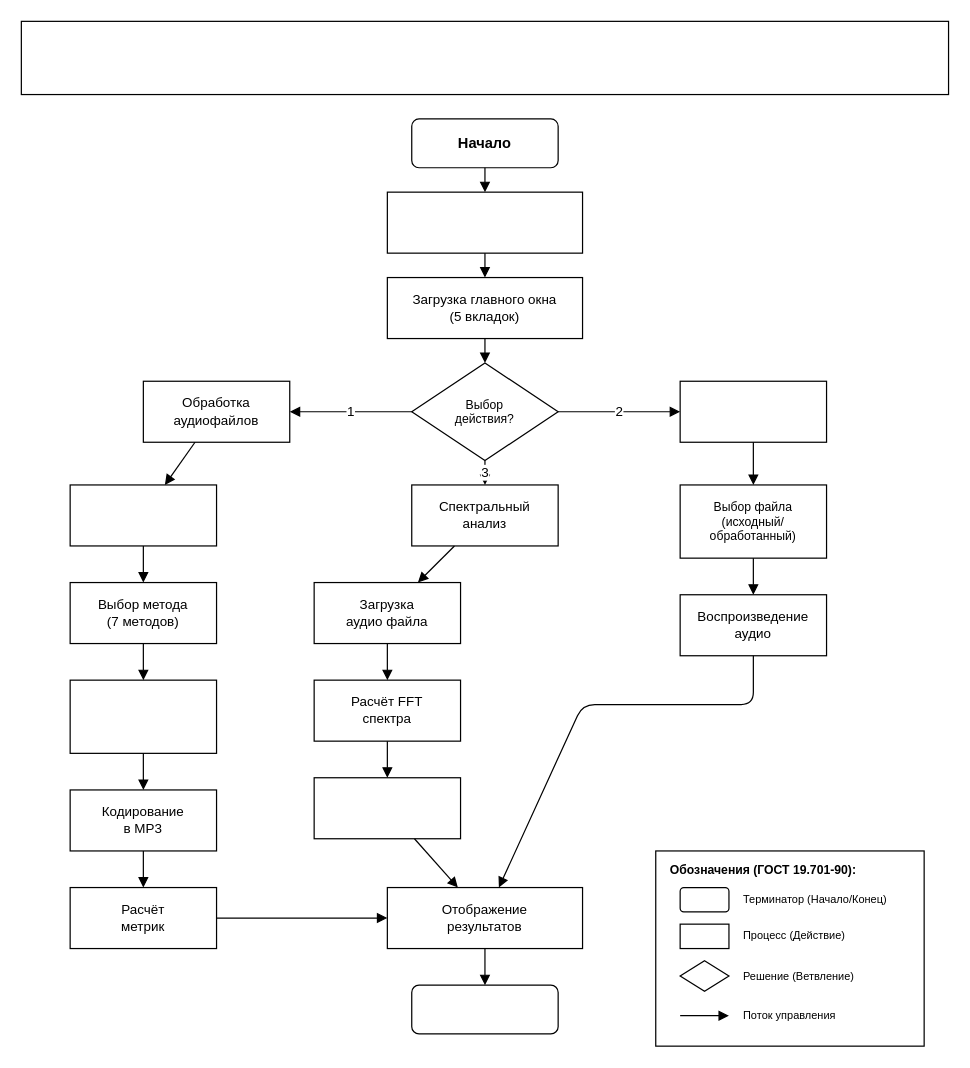
Some shapes in this 970 by 1068 pixel diagram are drawn without their labels. Here are the shapes that lost their labels. From the top down, the box of each, then its label:
(20, 20, 949, 95): Аудио Трансформер v1.0 — Схема работы программы Лист 1 из 1
(386, 191, 583, 253): Инициализация Qt приложения
(679, 380, 827, 442): Воспроизведение (Плеер)
(69, 484, 217, 546): Загрузка WAV файлов
(69, 679, 217, 753): Преобразование (FWHT/FFT/DCT/ DWT/Huff/RB/Std)
(313, 777, 461, 839): Отображение графика спектра
(411, 984, 558, 1034): Конец
